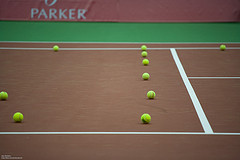tennis ball: (144, 87, 159, 100), (11, 111, 26, 123), (139, 112, 151, 125), (139, 70, 152, 81), (1, 89, 9, 103), (140, 58, 152, 67), (140, 50, 149, 59), (139, 44, 149, 52), (52, 44, 60, 53), (220, 42, 227, 52)
